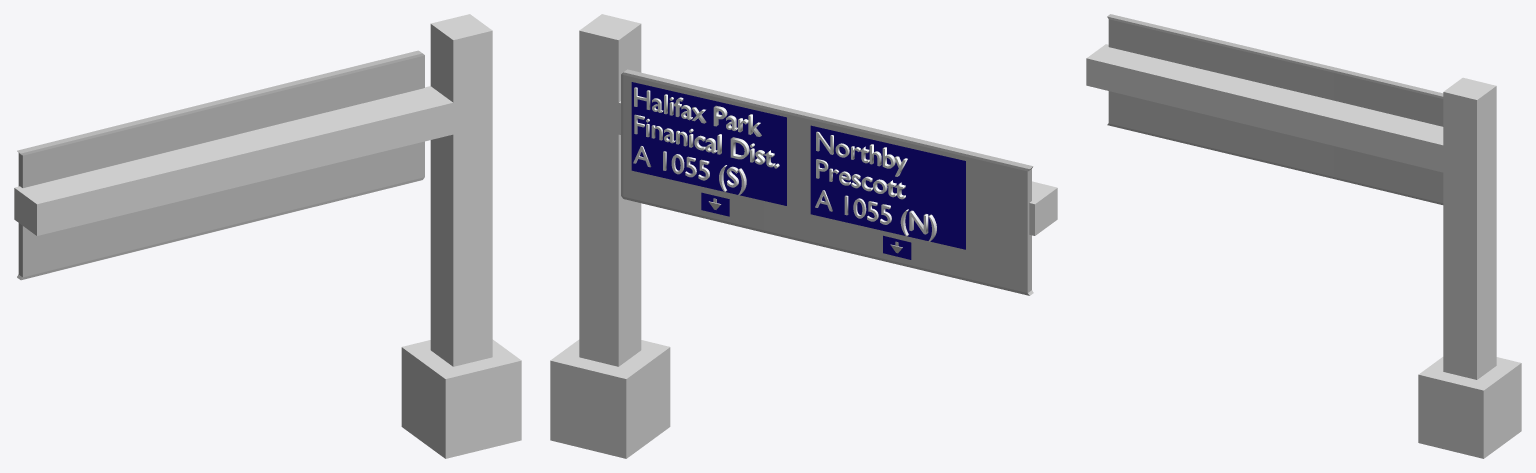
File: A1055ExitSignLanes.fbx
The picture shows the model from 3 angles, left to right: view 1: azimuth 30°, elevation 25°; view 2: azimuth 150°, elevation 25°; view 3: azimuth 330°, elevation 25°; orthographic projection. The views are drawn at different scales.
Visible parts, largest first — view 1: SignBoard_LOD0; view 2: SignBoard_LOD0, Text, Text.002, Text.003, Text.001; view 3: SignBoard_LOD0.
Part boxes in pixels (x1,y1,x2,y2): SignBoard_LOD0: [14, 14, 521, 458]; SignBoard_LOD0: [550, 14, 1057, 458]; Text: [634, 87, 779, 168]; Text.002: [816, 131, 907, 199]; Text.003: [815, 190, 936, 241]; Text.001: [633, 146, 746, 195]; SignBoard_LOD0: [1086, 14, 1521, 458].
Size of what is drawn, in the model's own units: 1244 by 1019 by 200.
